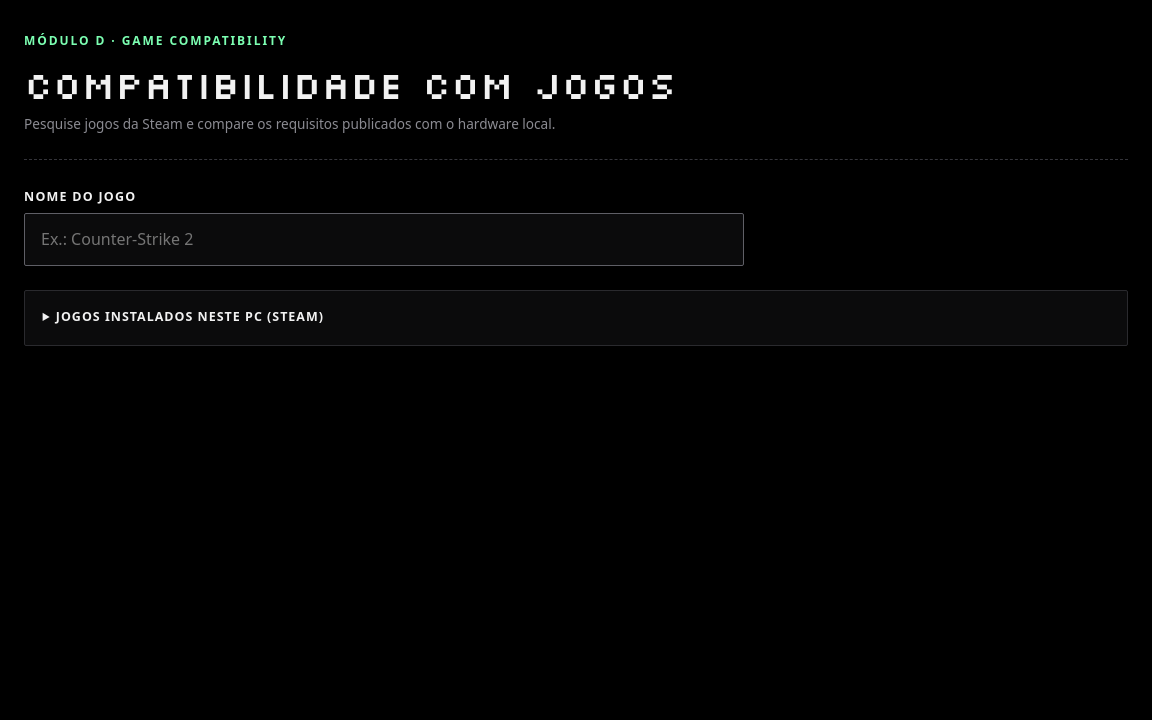
Test case: GameCompatibilityPage › item sem dado aparece como "Dados insuficientes" e o aviso de FPS fica só no rodapé
Type "Jogo" into the field labelled "Nome do jogo" at (384, 239), box left=24, top=213, right=744, bottom=266
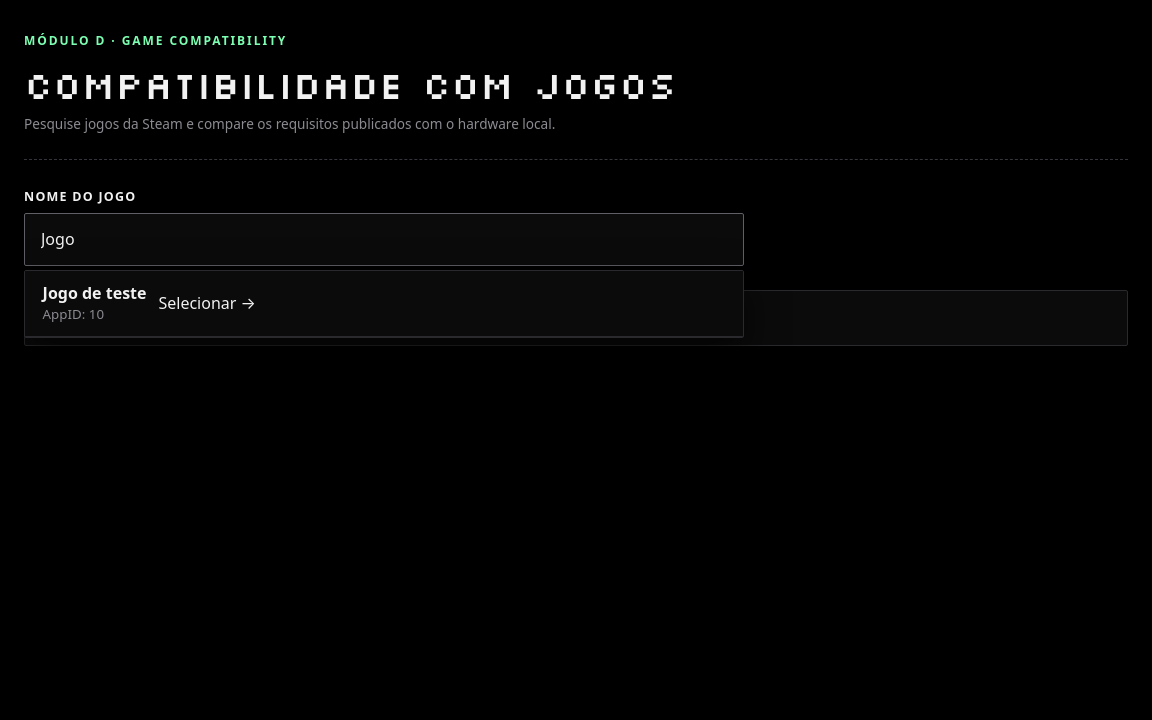
Click the button "Jogo de teste AppID: 10 Selecionar →" at (95, 293), box left=25, top=271, right=743, bottom=337
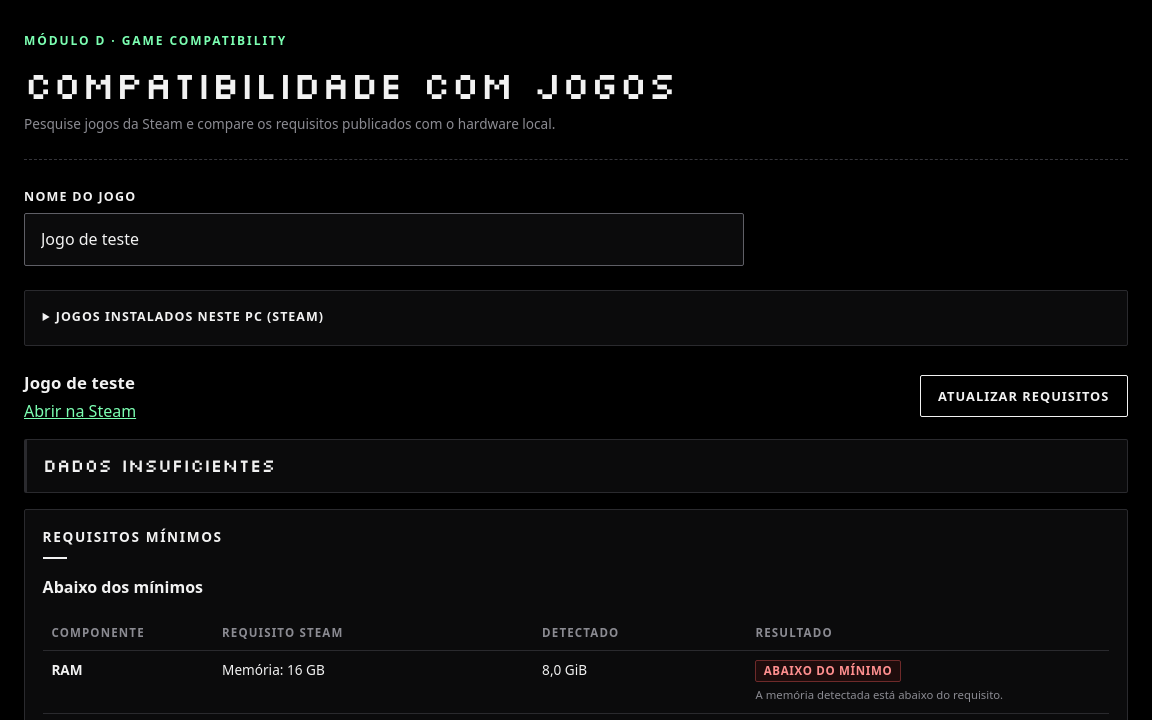
Expected: the element named "Classificação geral" is shown, left=24, top=439, right=1128, bottom=492
Expected: the text "Dados insuficientes" is shown 2 times
